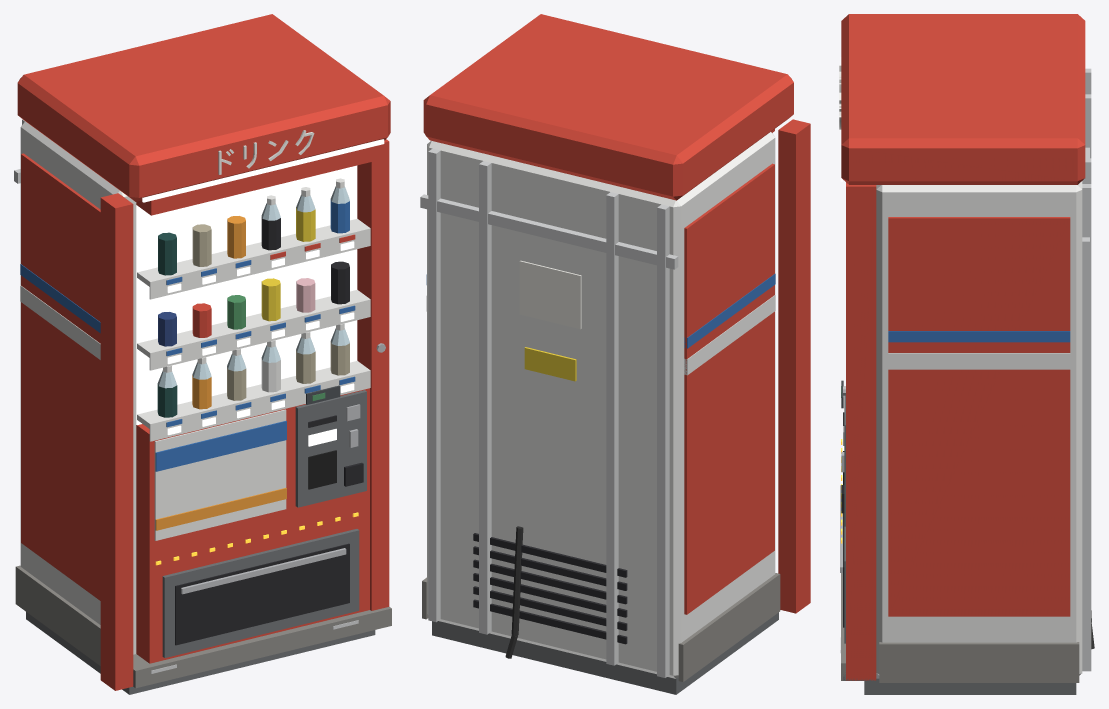
The model's file is vending_machine.glb.
3 views of the same model, side by side, from view 1: azimuth 30°, elevation 25°; view 2: azimuth 150°, elevation 25°; view 3: azimuth 270°, elevation 25° (orthographic). The views are drawn at different scales.
Parts seen in each view (by area): view 1: vending_machine_body; view 2: vending_machine_body; view 3: vending_machine_body.
Part boxes in pixels (box(x1,y1,x2,y2)): vending_machine_body: box(14, 14, 391, 694); vending_machine_body: box(420, 14, 810, 694); vending_machine_body: box(839, 14, 1094, 694).
Size of what is drawn, in the model's own units: 1.08 by 2.03 by 0.8427.
